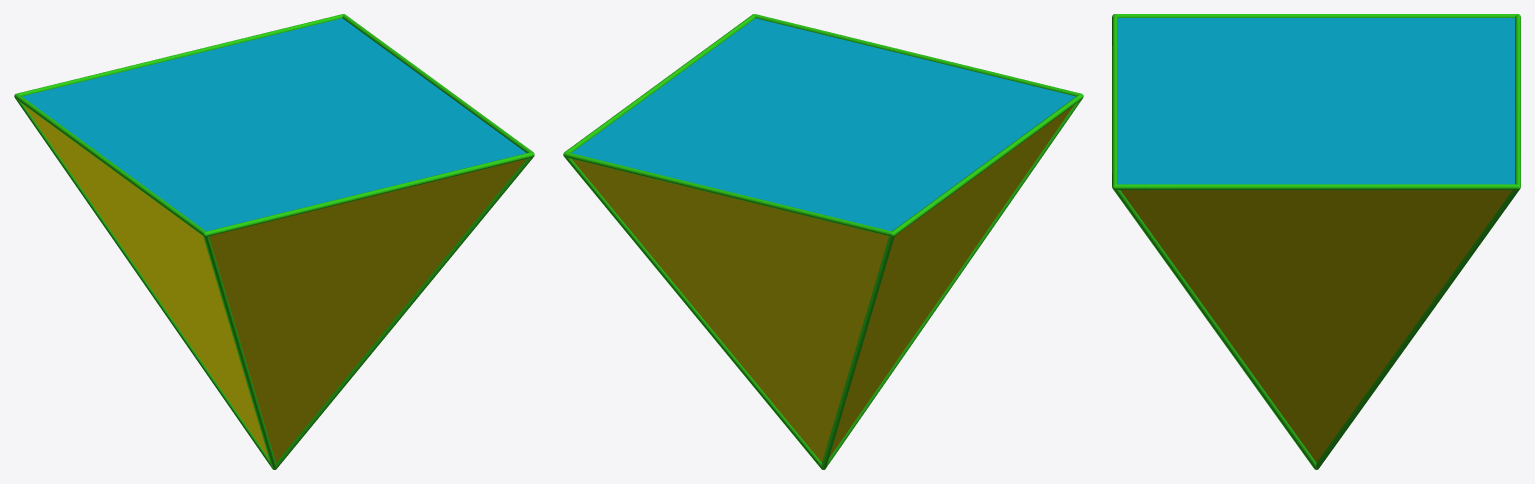
The picture shows the model from 3 angles, left to right: view 1: azimuth 30°, elevation 25°; view 2: azimuth 150°, elevation 25°; view 3: azimuth 270°, elevation 25°; orthographic projection. The views are drawn at different scales.
Visible parts, largest first — view 1: 上面, 边, 线; view 2: 上面, 边, 线; view 3: 上面, 边, 线.
Part boxes in pixels (x1,y1,x2,y2): 上面: (22, 18, 526, 231); 边: (24, 105, 525, 462); 线: (14, 14, 534, 469); 上面: (571, 18, 1075, 231); 边: (572, 105, 1073, 462); 线: (563, 14, 1083, 469); 上面: (1118, 18, 1514, 184); 边: (1120, 190, 1512, 462); 线: (1112, 14, 1520, 469).
Bounding box in the file's own units: 203 × 203 × 203.
